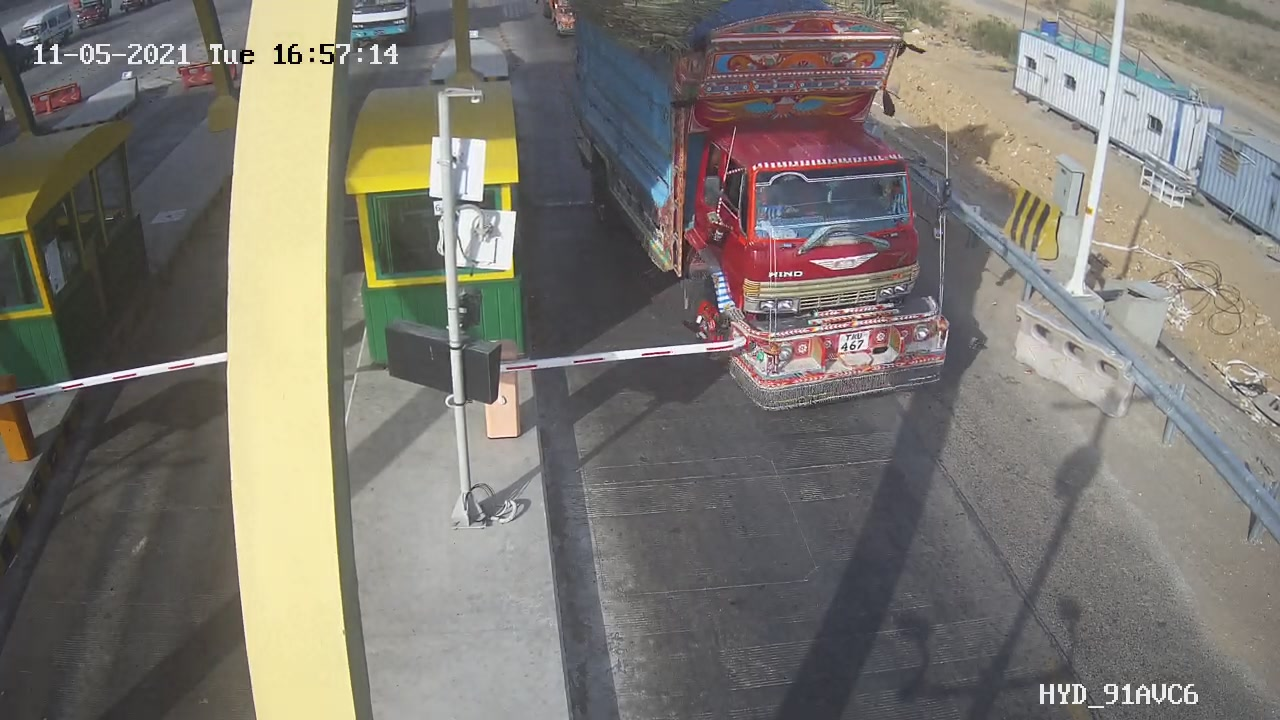F5: (552, 3, 983, 427)
